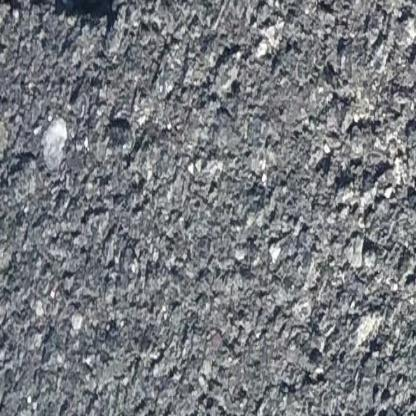Cracks: (0, 0, 122, 33)
